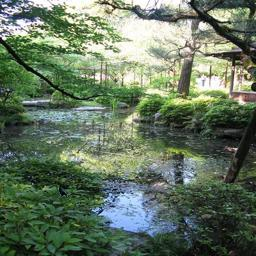Crow: (58, 187, 68, 197)
